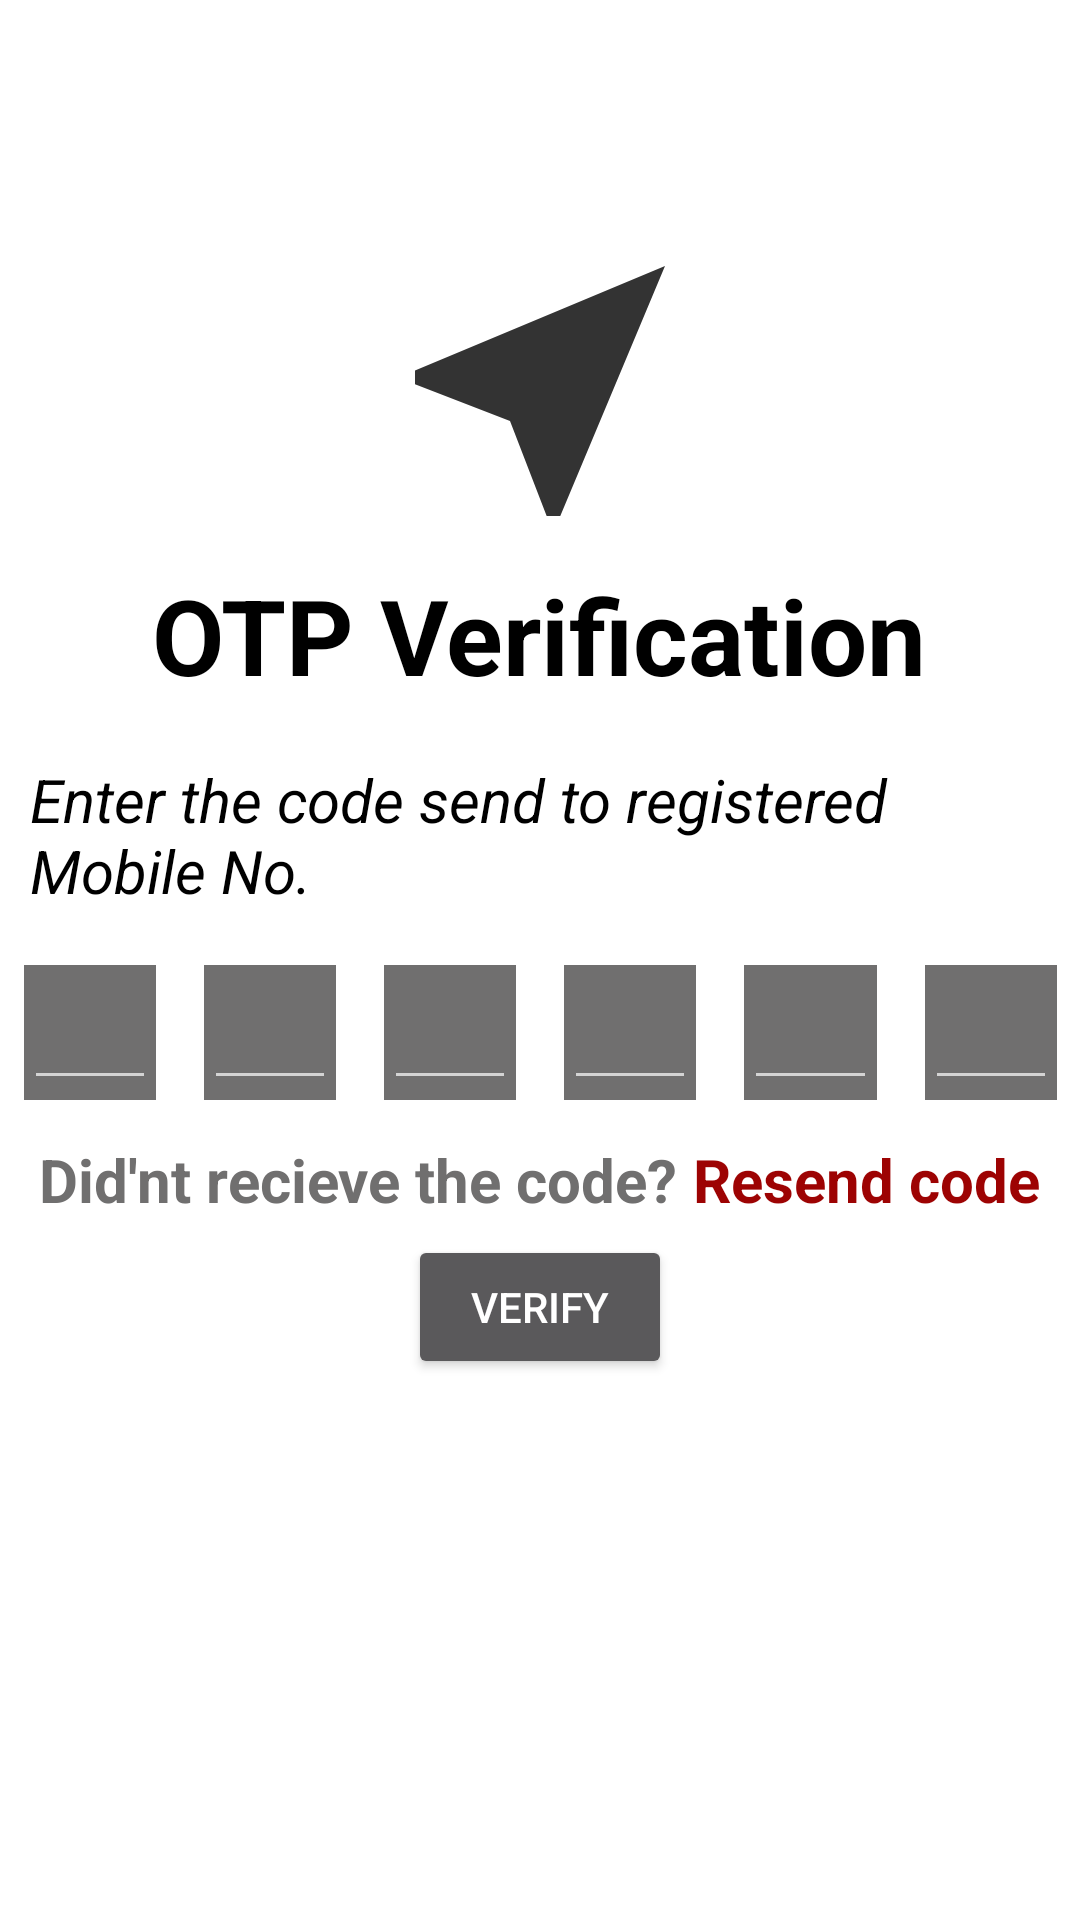

Icons on this 1080w x 1920h Android screen, each with its box as (x1, y1, x2, y2):
arrow: (415, 266, 665, 516)
